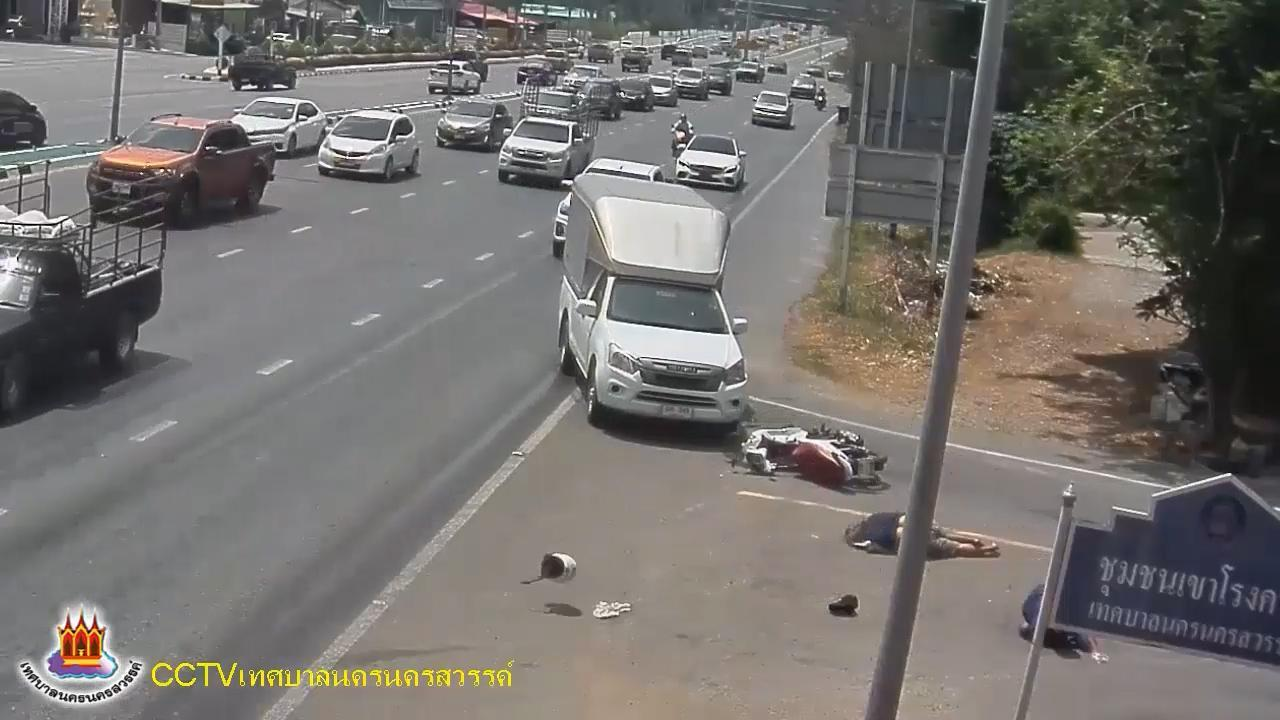accident: (837, 507, 997, 565)
